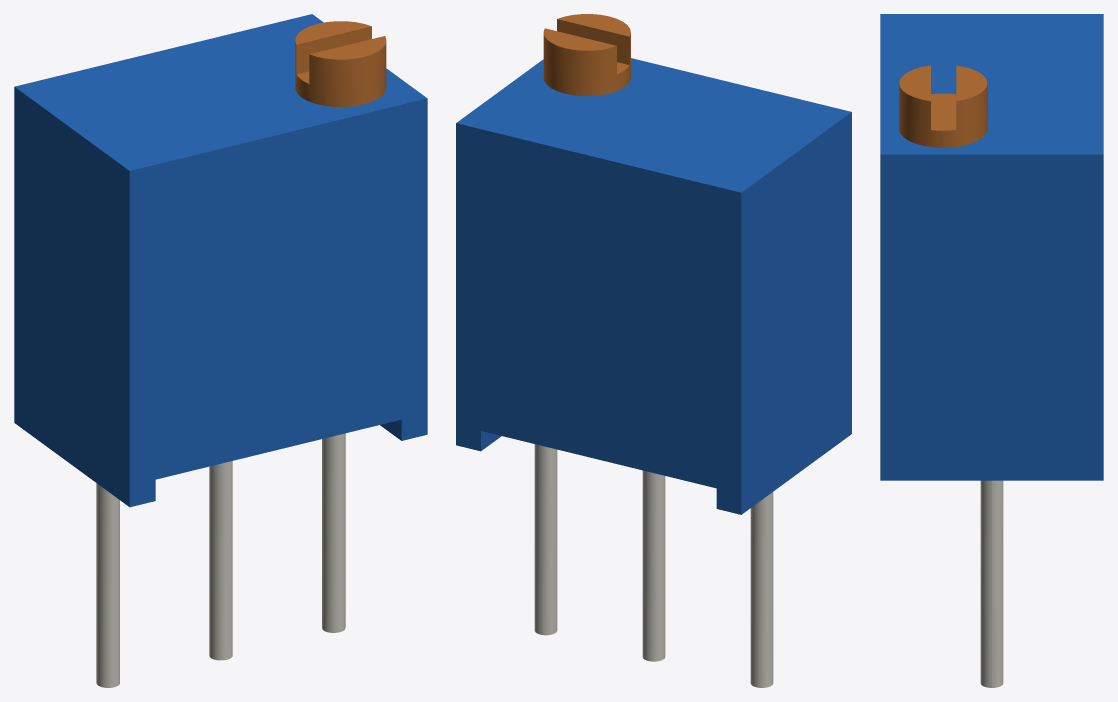
File: kc-potentiometer_bourns_3266y_vertical.glb
3 renders of one model, left to right at view 1: azimuth 30°, elevation 25°; view 2: azimuth 150°, elevation 25°; view 3: azimuth 270°, elevation 25°, orthographic. The views are drawn at different scales.
Visible parts, largest first — view 1: 0_0.16666666666666666_0.5_0, 0.6666666666666666_0.6666666666666666_0.5833333333333334_0.8, 0.5_0.16666666666666666_0_0; view 2: 0_0.16666666666666666_0.5_0, 0.6666666666666666_0.6666666666666666_0.5833333333333334_0.8, 0.5_0.16666666666666666_0_0; view 3: 0_0.16666666666666666_0.5_0, 0.5_0.16666666666666666_0_0, 0.6666666666666666_0.6666666666666666_0.5833333333333334_0.8.
Part boxes in pixels (x1,y1,x2,y2): 0_0.16666666666666666_0.5_0: [14, 14, 427, 507]; 0.6666666666666666_0.6666666666666666_0.5833333333333334_0.8: [96, 433, 345, 687]; 0.5_0.16666666666666666_0_0: [295, 21, 386, 106]; 0_0.16666666666666666_0.5_0: [456, 58, 851, 514]; 0.6666666666666666_0.6666666666666666_0.5833333333333334_0.8: [534, 444, 773, 687]; 0.5_0.16666666666666666_0_0: [543, 14, 630, 96]; 0_0.16666666666666666_0.5_0: [880, 14, 1103, 480]; 0.5_0.16666666666666666_0_0: [899, 65, 987, 147]; 0.6666666666666666_0.6666666666666666_0.5833333333333334_0.8: [980, 480, 1003, 687].
Size of the model in its own units: 0.671 by 1.31 by 0.45.
